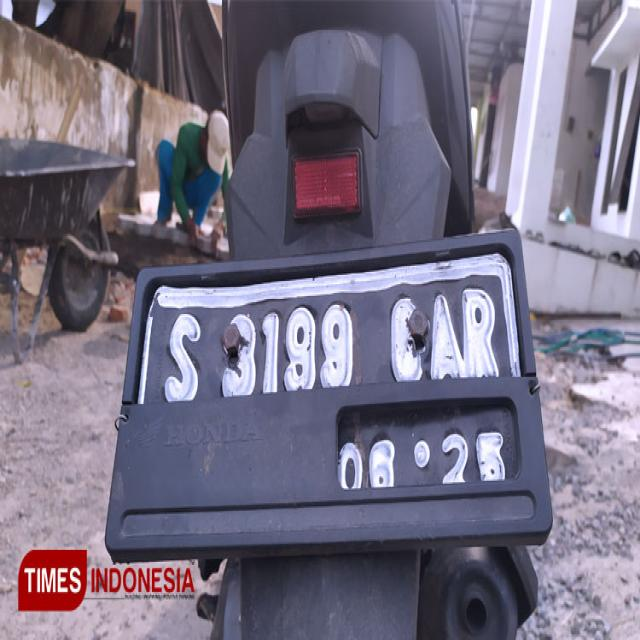plate: (140, 269, 538, 533)
